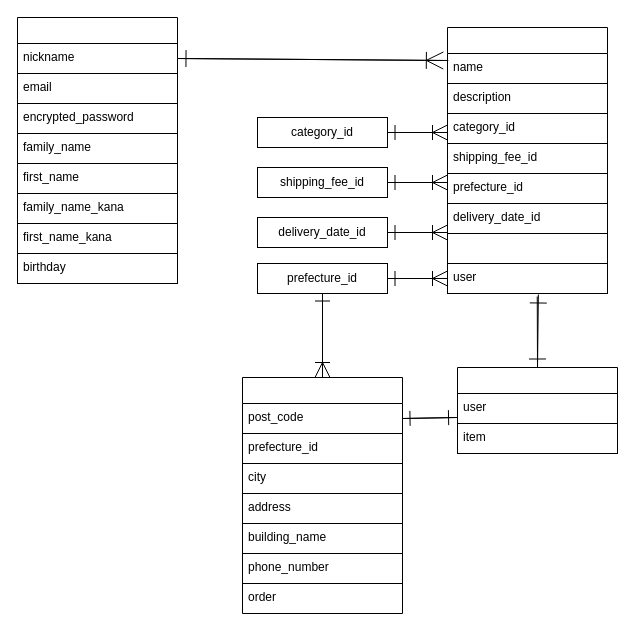
Some shapes in this 635 by 634 pixel diagram are drawn without their labels. Here are the shapes that lost their labels. From the top down, the box of each, then its label:
(16, 16, 178, 284): users
(446, 26, 608, 294): items
(446, 232, 608, 264): price
(456, 366, 618, 454): orders
(242, 376, 402, 614): destinations
